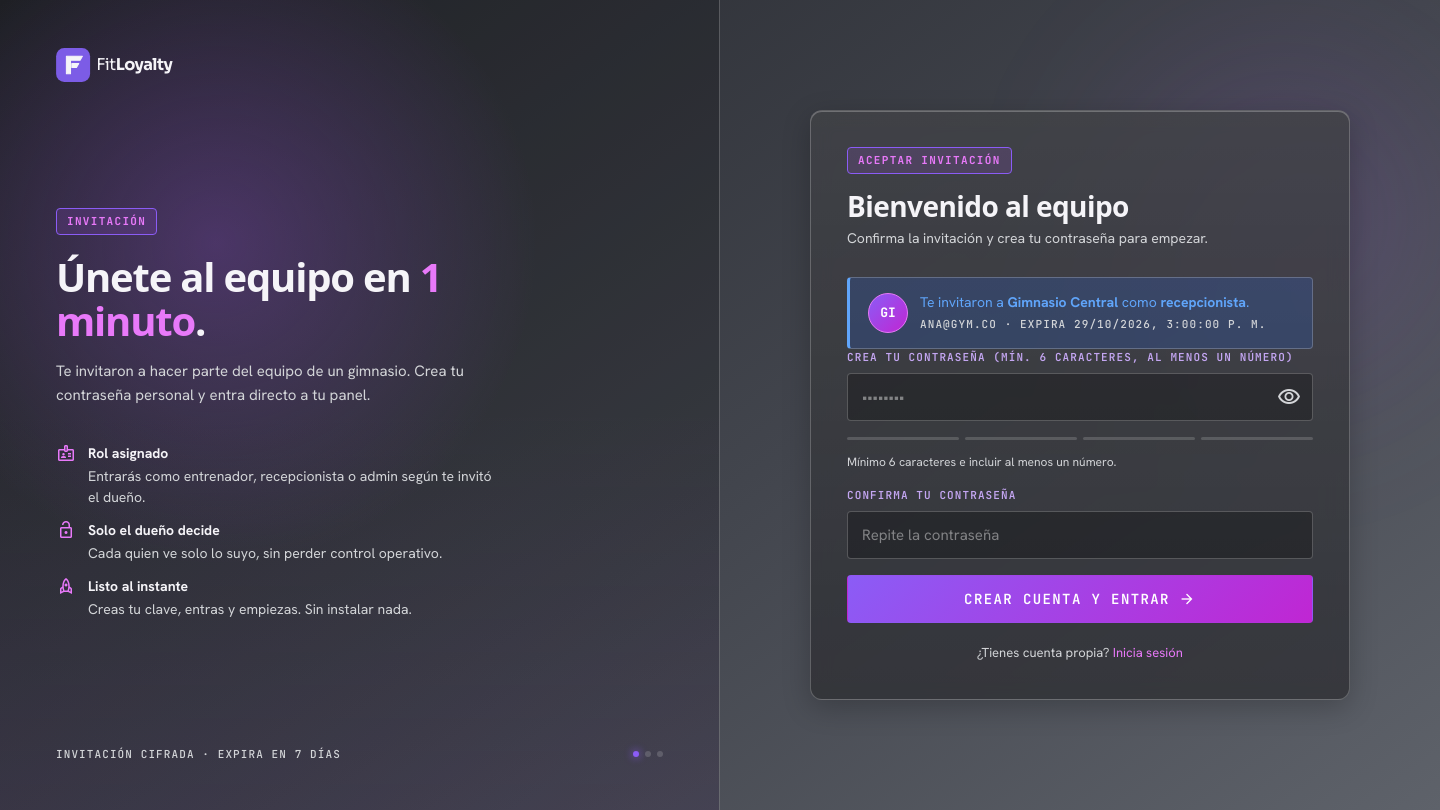
Test: AcceptInvitePage: la contrasena › should explain what is missing when the password is abcdefg
Type "abcdefg" into the 1st password field at (1080, 397), box [847,373,1313,421]
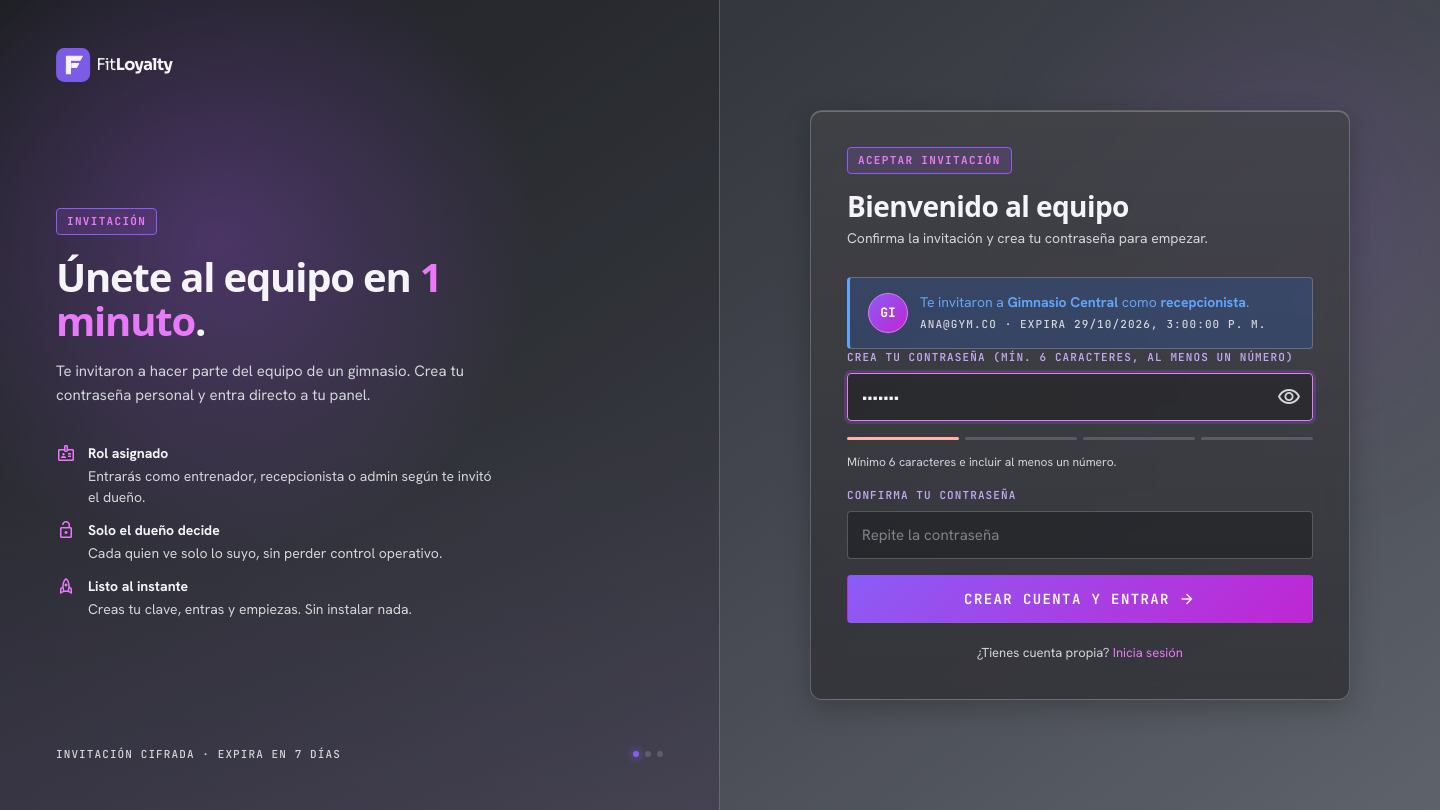
Type "abcdefg" into the password field labelled "Confirma tu contraseña" at (1080, 536), box [847,512,1313,560]
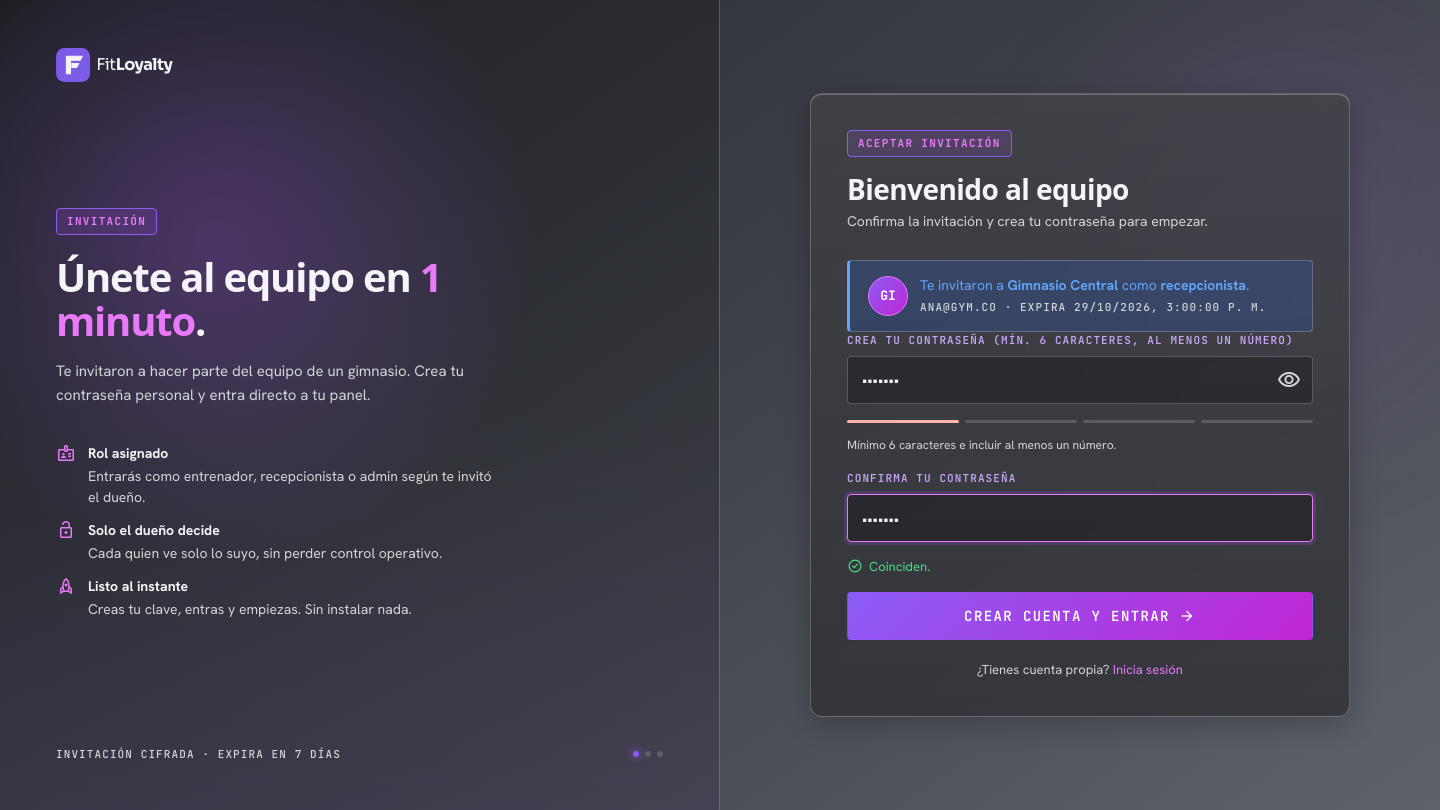
Click the button "Crear cuenta y entrar" at (1080, 616), box [847,592,1313,640]
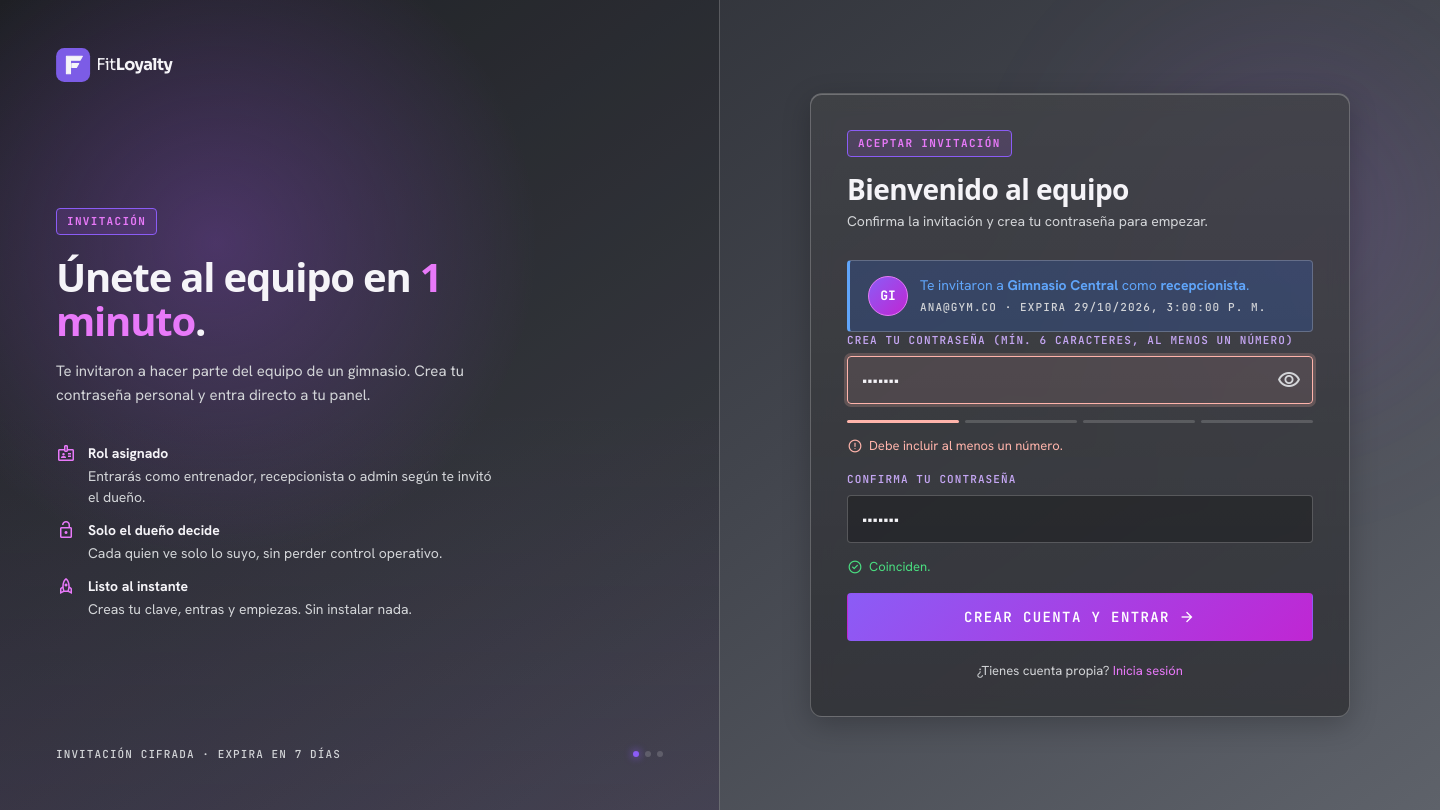
Expected: the text "Debe incluir al menos un número." is shown, [847,436,1063,456]
